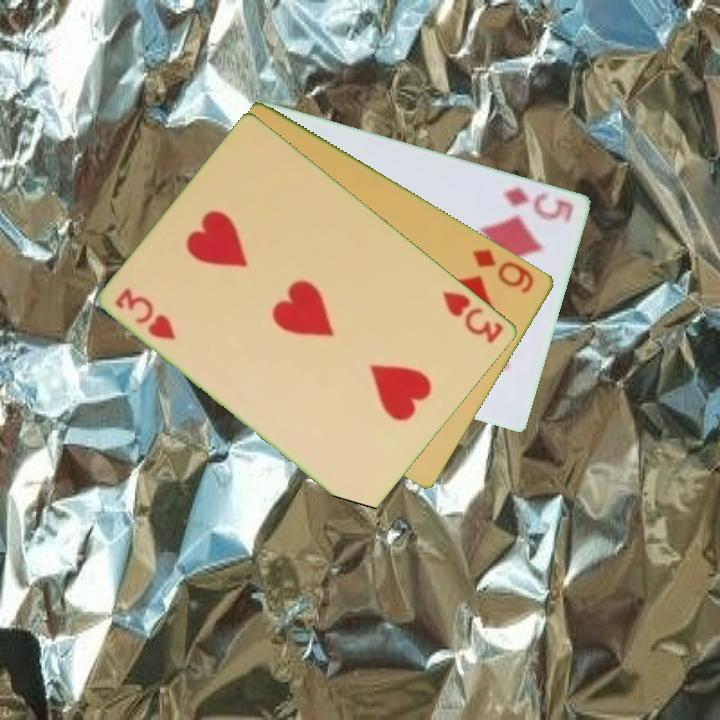3h: (439, 287, 507, 346), (112, 284, 180, 343)
5d: (500, 182, 577, 226)
6d: (469, 245, 538, 296)
